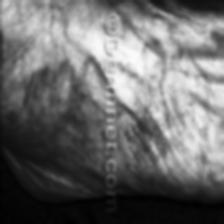Toxin: (16, 58, 96, 168), (123, 39, 165, 183)
